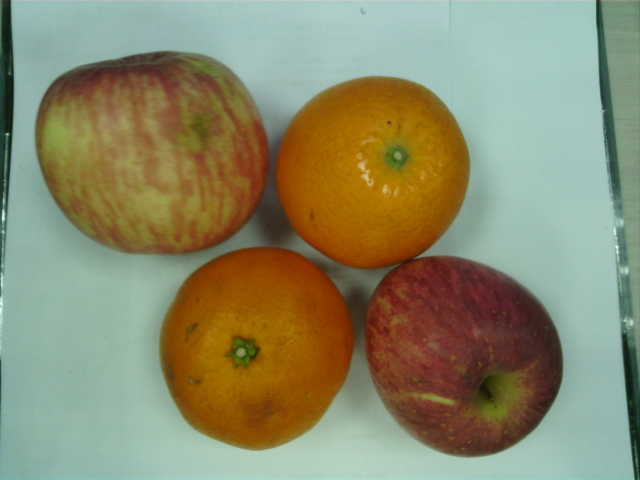normal_apple: (36, 51, 271, 255), (367, 257, 564, 458)
normal_orange: (161, 248, 355, 449), (275, 77, 471, 267)
